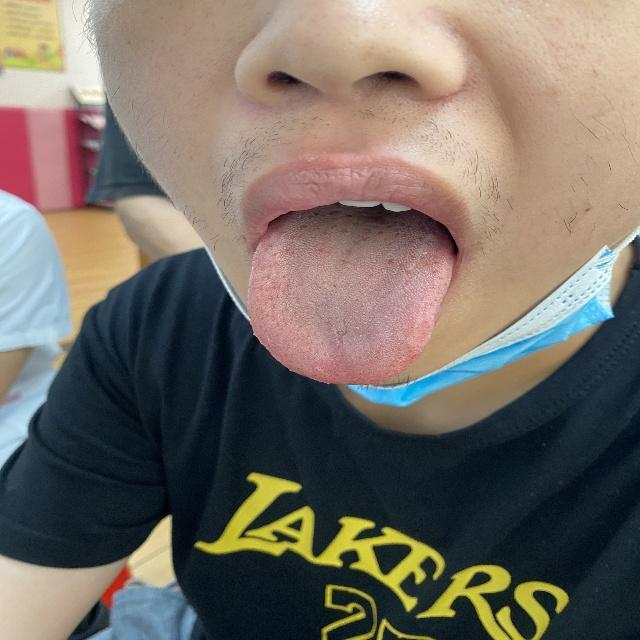baitaishe: (246, 225, 453, 386)
